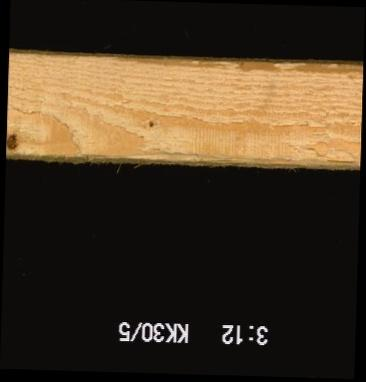dry_knot: (5, 132, 20, 153)
small_knot: (143, 118, 155, 131)
wave: (110, 55, 362, 72), (97, 156, 357, 167)
